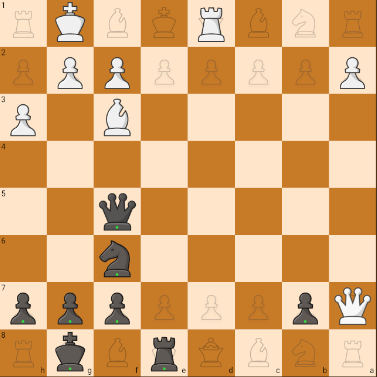bk: (48, 330, 93, 373)
bn: (96, 239, 139, 280)
bp: (2, 282, 44, 327), (285, 286, 326, 327), (95, 289, 136, 327), (54, 286, 88, 327)
bq: (97, 189, 138, 233)
br: (146, 332, 187, 373)
wb: (99, 98, 137, 139)
wk: (50, 3, 89, 46)
wp: (3, 96, 44, 140), (334, 50, 374, 92), (50, 52, 91, 92), (102, 53, 135, 90)
wq: (333, 283, 374, 328)
wr: (191, 1, 233, 44)
